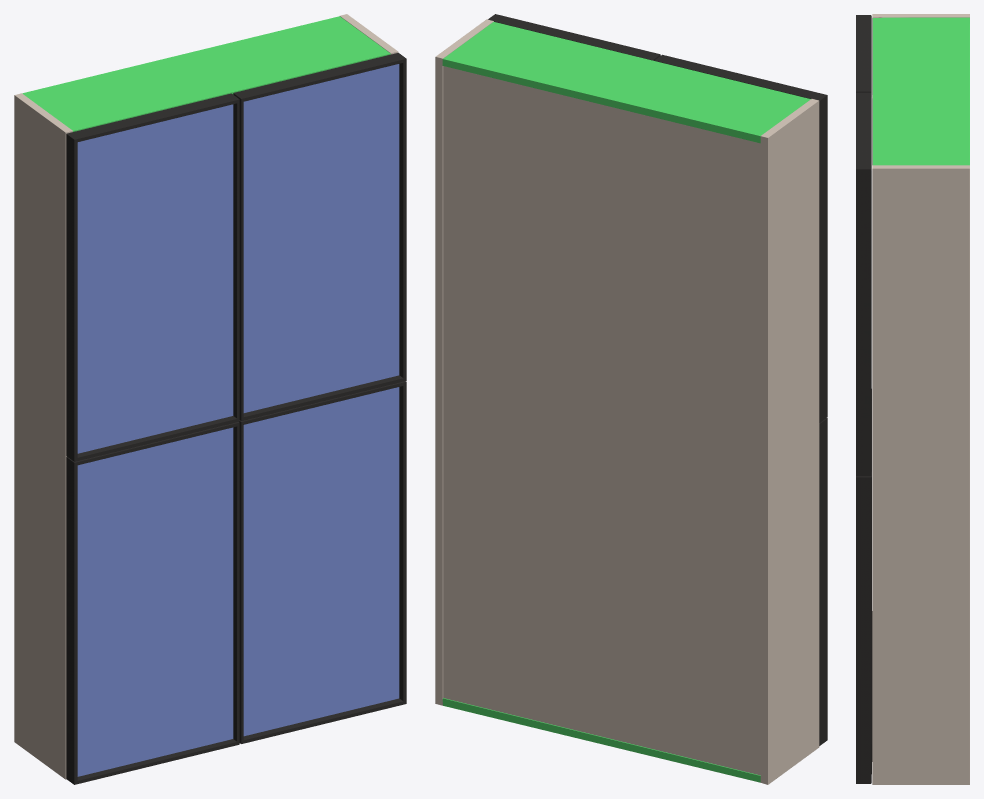
The picture shows the model from 3 angles, left to right: view 1: azimuth 30°, elevation 25°; view 2: azimuth 150°, elevation 25°; view 3: azimuth 270°, elevation 25°; orthographic projection. The views are drawn at different scales.
Visible parts, largest first — view 1: AT12; view 2: AT12; view 3: AT12.
Boxes of the visible parts, x1,y1,x2,y2 form: AT12: [14, 14, 406, 784]; AT12: [435, 14, 827, 784]; AT12: [856, 14, 969, 784].
Size of the model in its own units: 0.807 by 1.5 by 0.2512.
4 materials, 1 textured.
